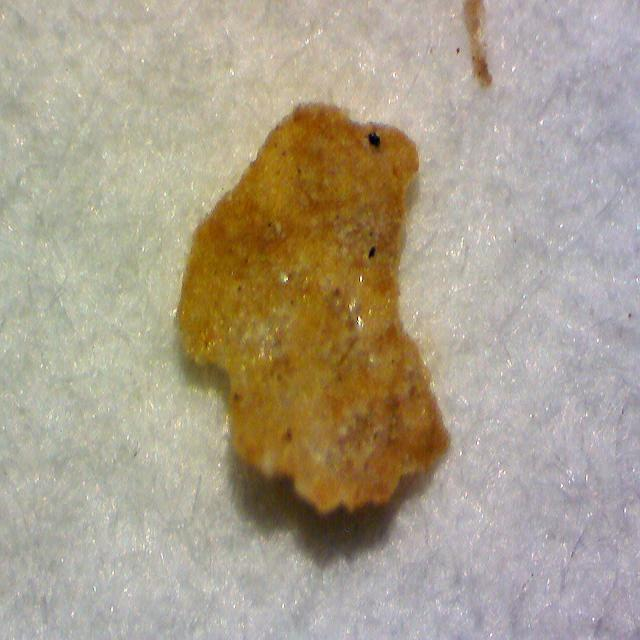microplastic: (175, 101, 451, 516)
